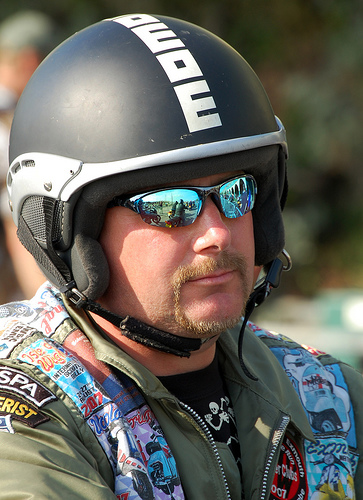helmet: (16, 14, 288, 261)
